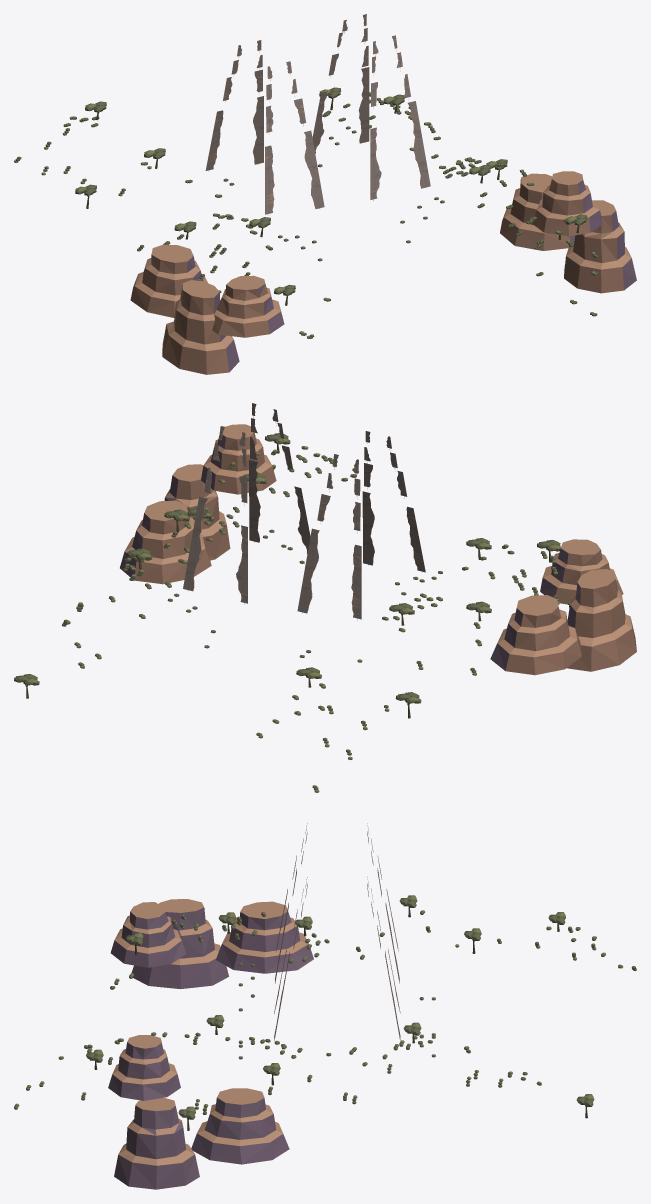
The model's file is gate-dressing-v1.glb.
3 views of the same model, one above another, from view 1: azimuth 30°, elevation 25°; view 2: azimuth 150°, elevation 25°; view 3: azimuth 270°, elevation 25° (orthographic). The views are drawn at different scales.
Parts seen in each view (by area): view 1: gate-dressing-landscape, gate-dressing-wear, gate-dressing-vegetation; view 2: gate-dressing-landscape, gate-dressing-wear, gate-dressing-vegetation; view 3: gate-dressing-landscape, gate-dressing-vegetation, gate-dressing-wear.
Boxes of the visible parts, <box> form: gate-dressing-landscape: <box>130,171,636,374</box>; gate-dressing-wear: <box>205,14,430,214</box>; gate-dressing-vegetation: <box>14,87,598,338</box>; gate-dressing-landscape: <box>120,424,636,675</box>; gate-dressing-wear: <box>183,403,425,620</box>; gate-dressing-vegetation: <box>14,433,570,792</box>; gate-dressing-landscape: <box>108,899,313,1189</box>; gate-dressing-vegetation: <box>14,895,636,1130</box>; gate-dressing-wear: <box>274,823,400,1040</box>.
Size of the model in its own units: 132 by 61.53 by 155.
